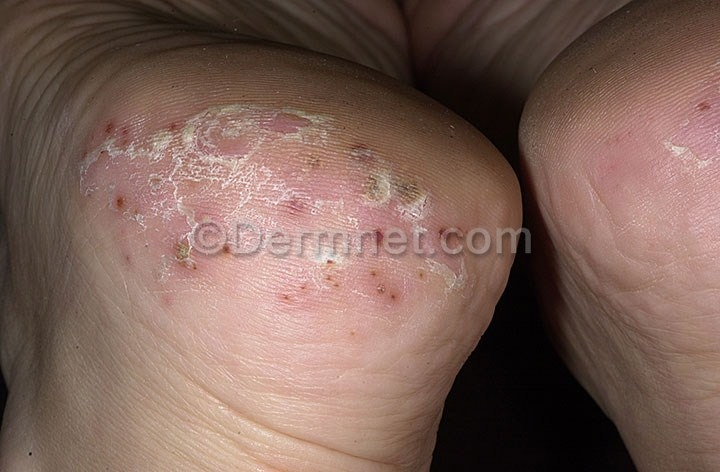Psoriasis: (85, 95, 472, 323)
